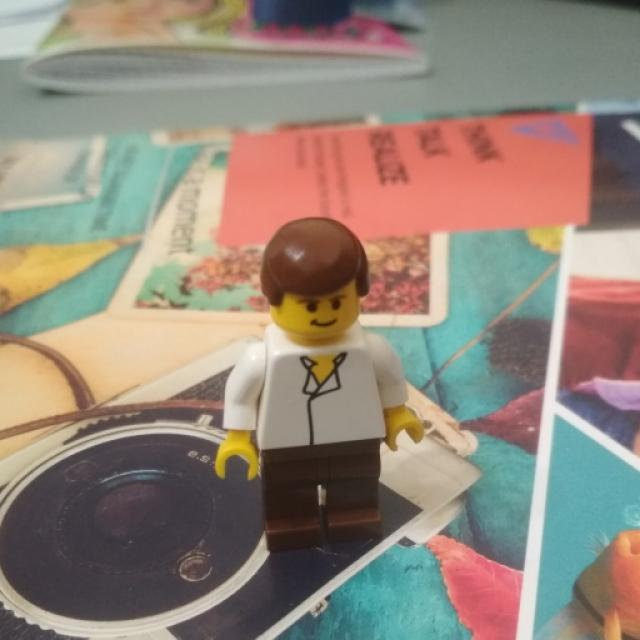Lego-Minifigures: (183, 178, 472, 554)
